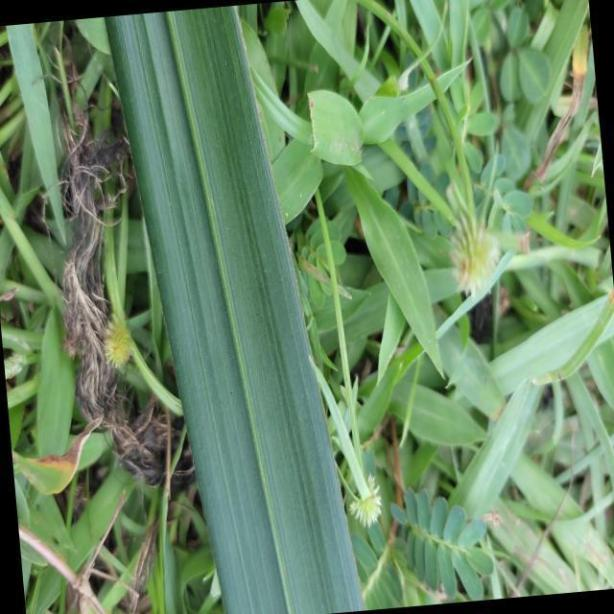Healthy: (107, 0, 371, 614)
